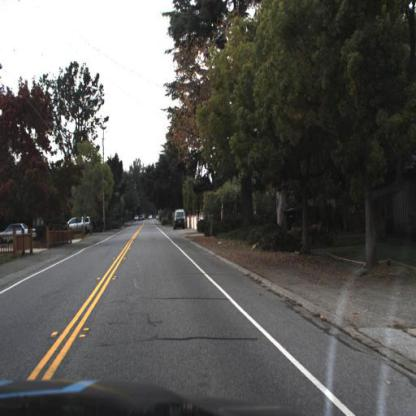car: (1, 219, 39, 248), (66, 212, 94, 237), (173, 213, 187, 232)
